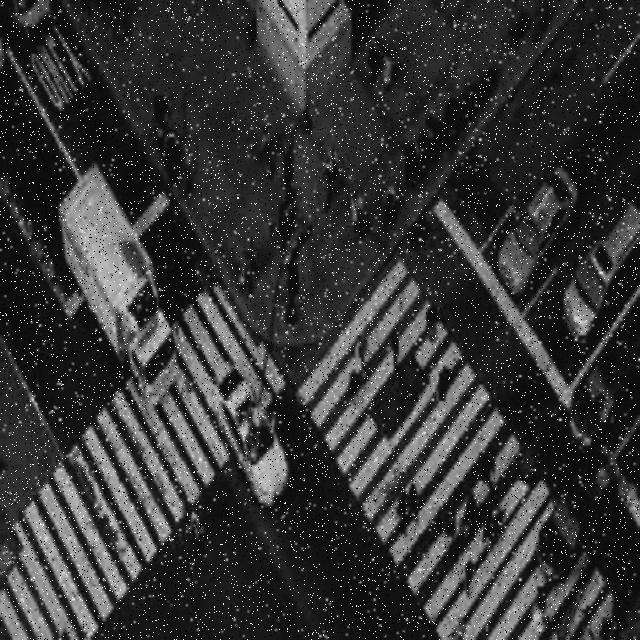Pedestrian crosswalk: (301, 268, 627, 637), (1, 270, 284, 636)
